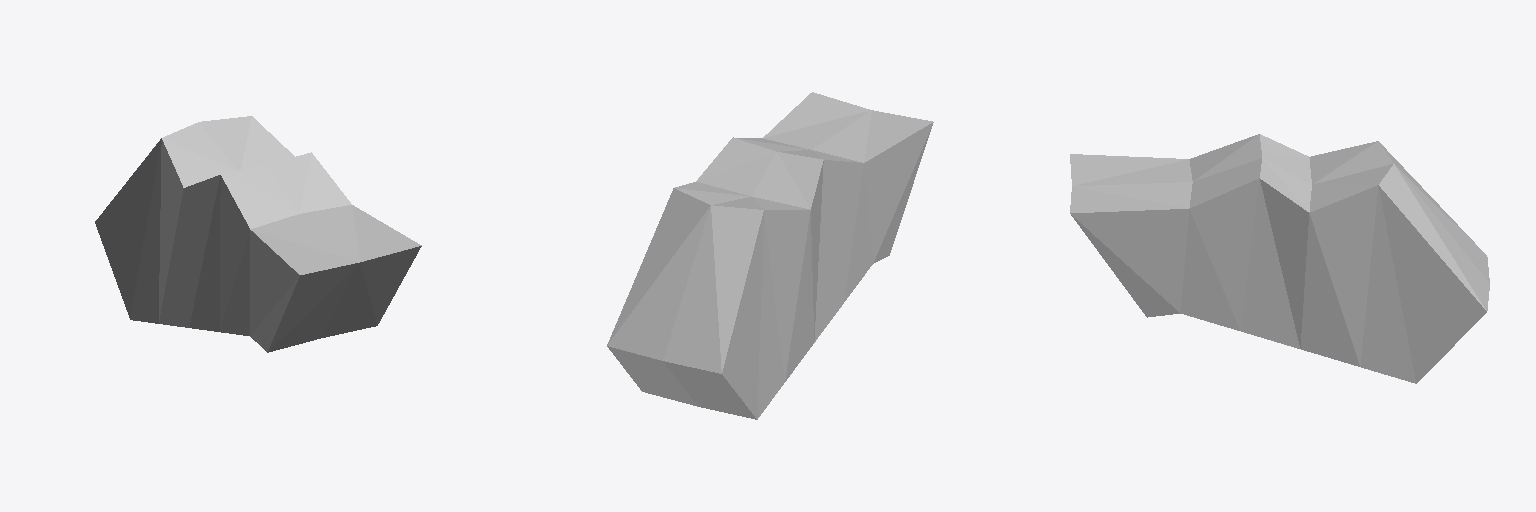
Rendered from hair6.obj.
3 views of the same model, side by side, from view 1: azimuth 30°, elevation 25°; view 2: azimuth 150°, elevation 25°; view 3: azimuth 270°, elevation 25° (orthographic).
Parts seen in each view (by area): view 1: hair7_Cube.006; view 2: hair7_Cube.006; view 3: hair7_Cube.006.
Part boxes in pixels (bbox=[...]): hair7_Cube.006: bbox=[95, 116, 421, 352]; hair7_Cube.006: bbox=[607, 92, 933, 419]; hair7_Cube.006: bbox=[1070, 134, 1489, 383].
Bounding box in the file's own units: 0.813 × 1.27 × 2.43.